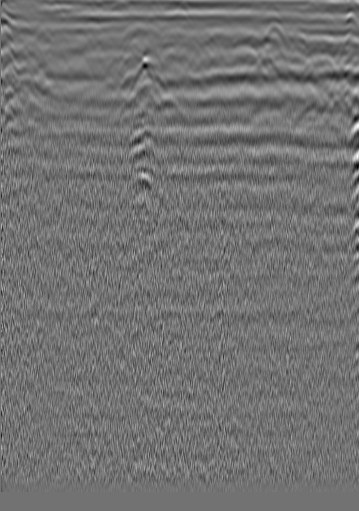가스: (126, 167, 158, 199)
상수: (288, 26, 308, 46)
오수: (35, 28, 55, 48)
우수: (168, 24, 188, 44)
